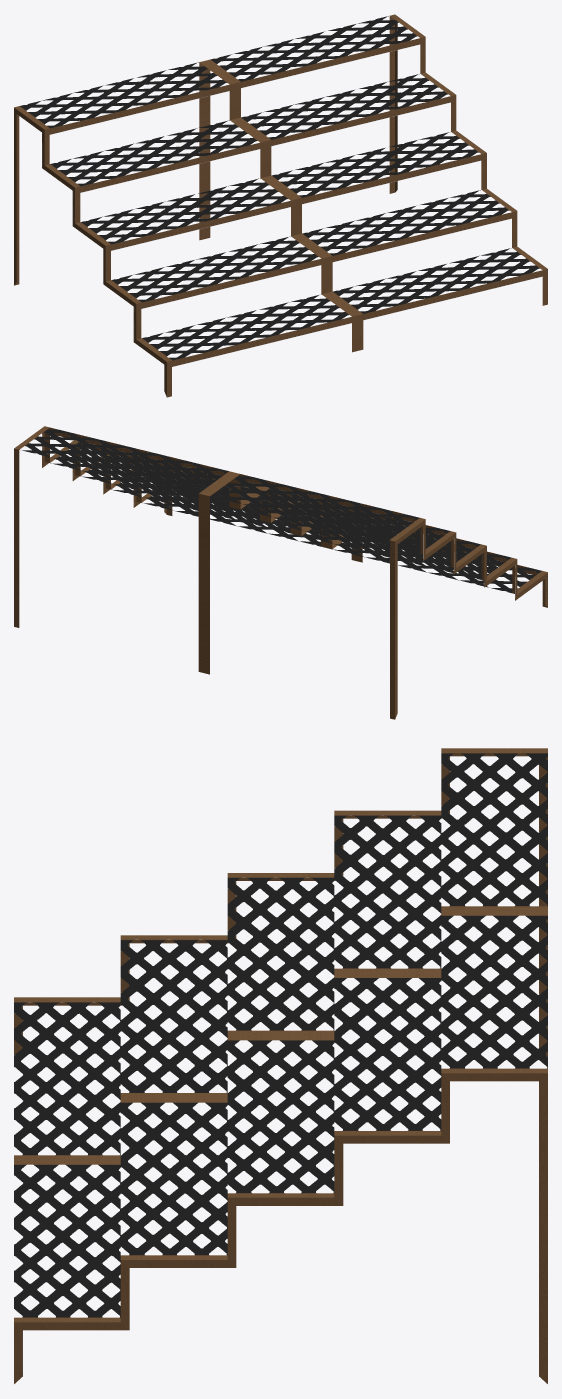
Rendered from Stairs.fbx.
3 views of the same model, one above another, from view 1: azimuth 30°, elevation 25°; view 2: azimuth 150°, elevation 25°; view 3: azimuth 270°, elevation 25° (orthographic). The views are drawn at different scales.
Parts seen in each view (by area): view 1: Stairs; view 2: Stairs; view 3: Stairs.
Part boxes in pixels (<box>): Stairs: <box>14,14,547,397</box>; Stairs: <box>14,426,547,719</box>; Stairs: <box>14,748,547,1383</box>.
Size of the model in its own units: 218 by 97.33 by 151.
